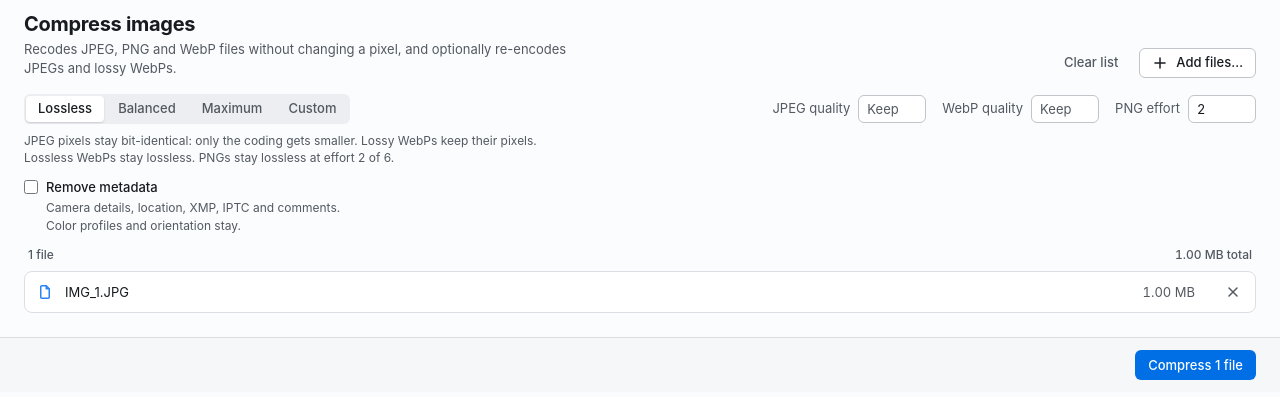
ImageCompress compression › starts lossless and says that pixels stay identical
This screenshot has width=1280, height=397.
Expected: the radio button labelled "Lossless" is checked, [26,96,104,122]
Expected: the number field labelled "JPEG quality" is not empty, [858,95,926,123]
Click the button "Compress 1 file".
click(1196, 366)  # box [1135,350,1256,380]
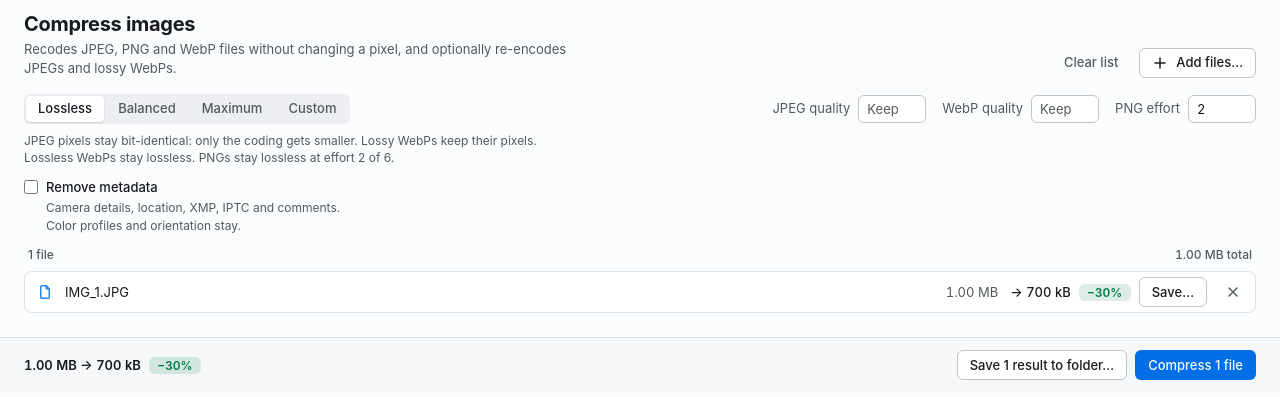
Expected: the text titled "JPEG 4032×3024 · pixels unchanged" is shown, [1010,283,1071,302]
